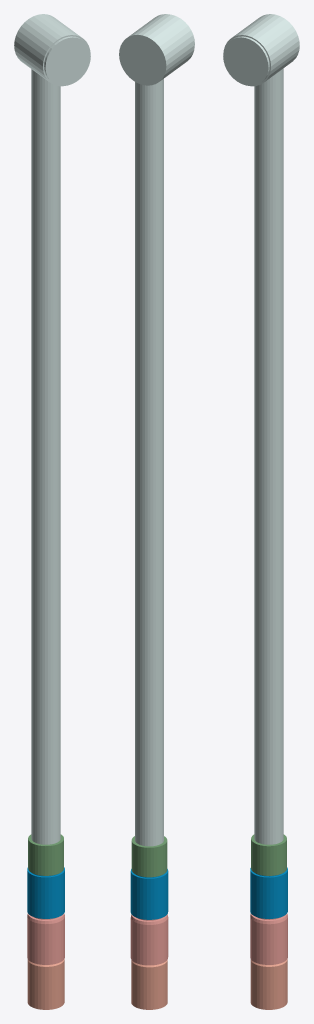
Rendered from palo_cosa_que_vuela.fbx.
3 views of the same model, side by side, from view 1: azimuth 30°, elevation 25°; view 2: azimuth 150°, elevation 25°; view 3: azimuth 330°, elevation 25° (orthographic).
Visible parts, largest first — view 1: Circle; view 2: Circle; view 3: Circle.
Boxes of the visible parts, x1,y1,x2,y2 form: Circle: (14, 14, 90, 1009); Circle: (119, 14, 194, 1009); Circle: (223, 14, 299, 1009).
Size of the model in its own units: 21.78 by 427 by 25.38.
